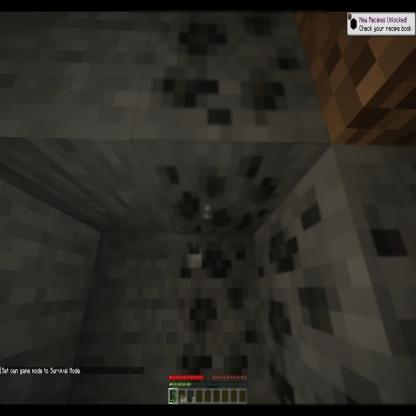coal ore: (132, 0, 328, 241), (252, 143, 416, 416), (172, 225, 268, 414)
